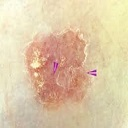Bowen: (27, 31, 90, 108)
